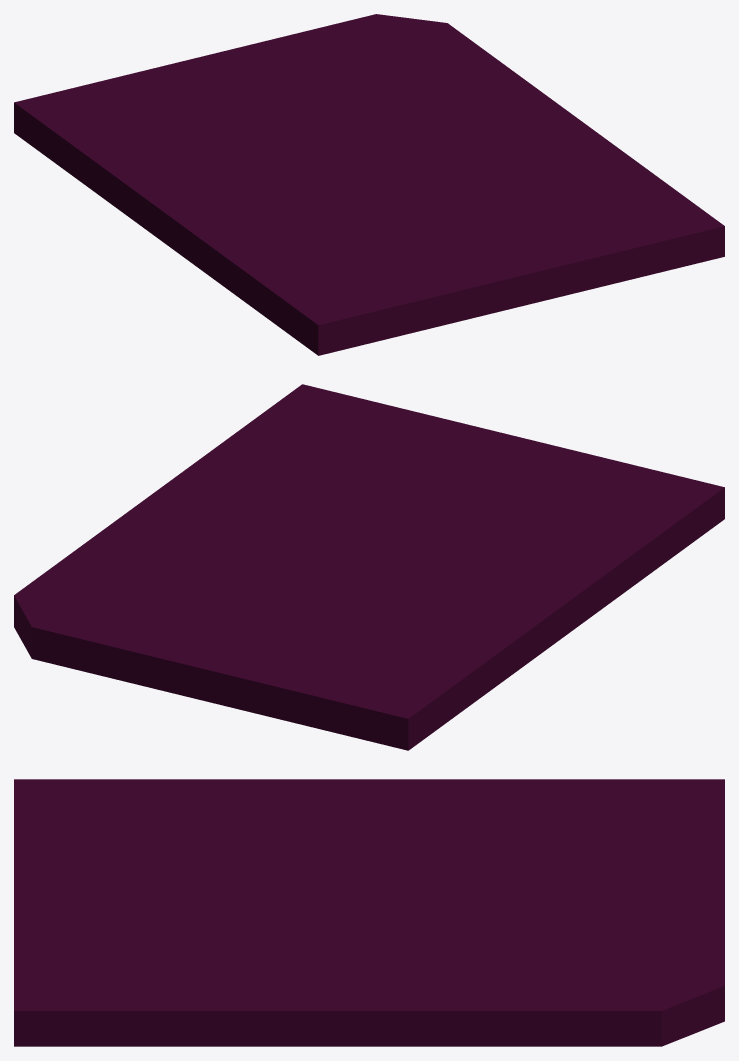
Rendered from memorycard.glb.
3 renders of one model, top to bottom at view 1: azimuth 30°, elevation 25°; view 2: azimuth 150°, elevation 25°; view 3: azimuth 270°, elevation 25°, orthographic. The views are drawn at different scales.
Parts seen in each view (by area): view 1: memorycard; view 2: memorycard; view 3: memorycard.
Boxes of the visible parts, x1,y1,x2,y2 form: memorycard: [14, 14, 724, 355]; memorycard: [14, 384, 724, 750]; memorycard: [14, 779, 724, 1046].
Size of the model in its own units: 0.025 by 0.0018 by 0.0324.
Materials: 1 (1 with a texture image).
